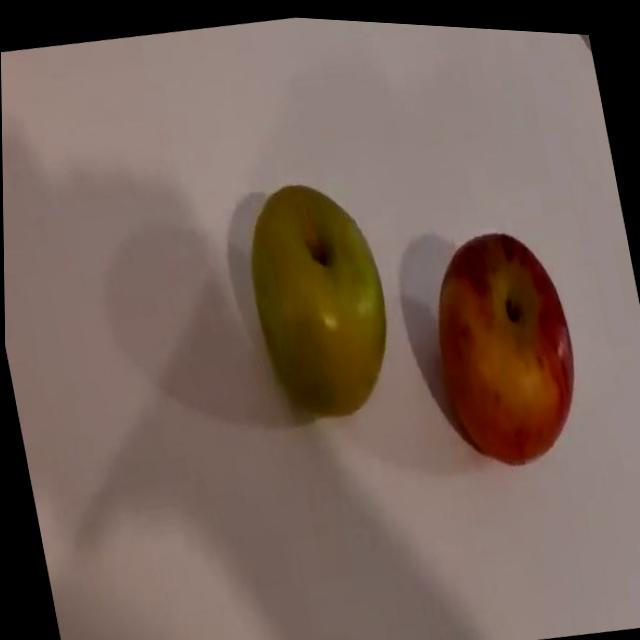Apple: (417, 212, 593, 472), (233, 164, 405, 425)
